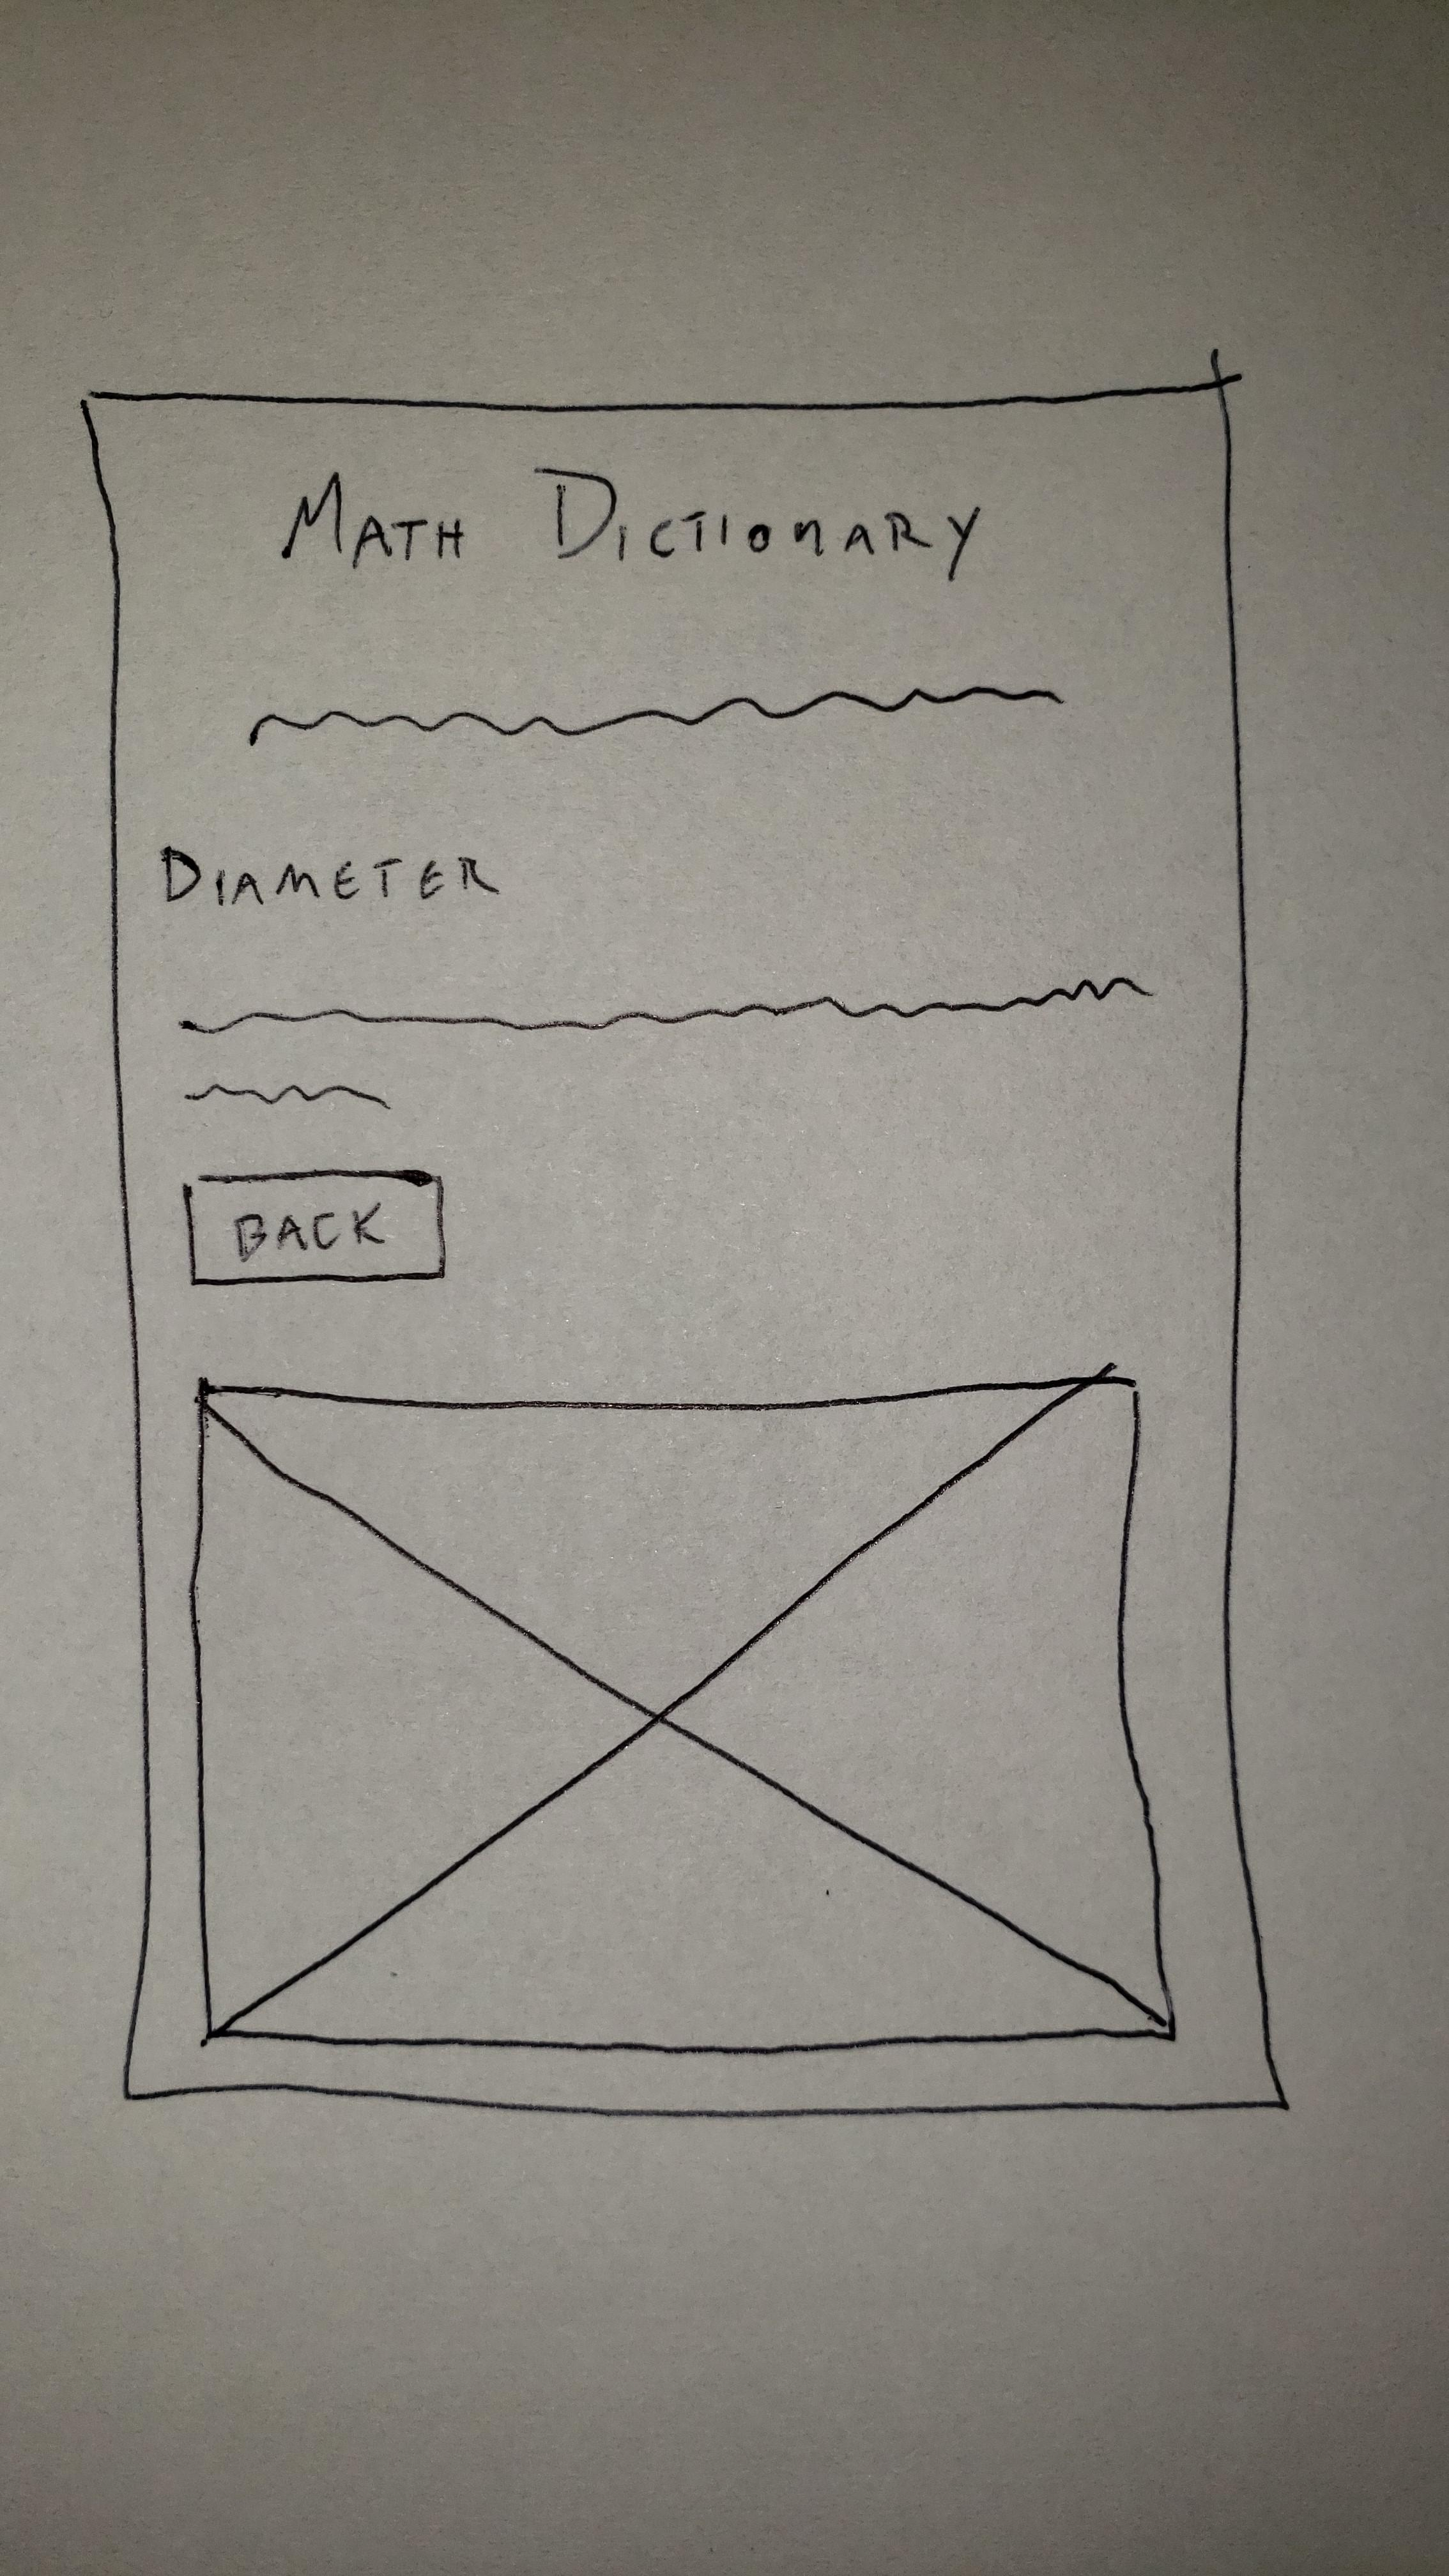Button: (186, 1169, 446, 1283)
Image: (189, 1375, 1175, 2051)
Label: (182, 977, 1155, 1108), (285, 465, 982, 582), (249, 683, 1072, 748), (165, 846, 497, 908)
Screen: (83, 380, 1288, 2116)
